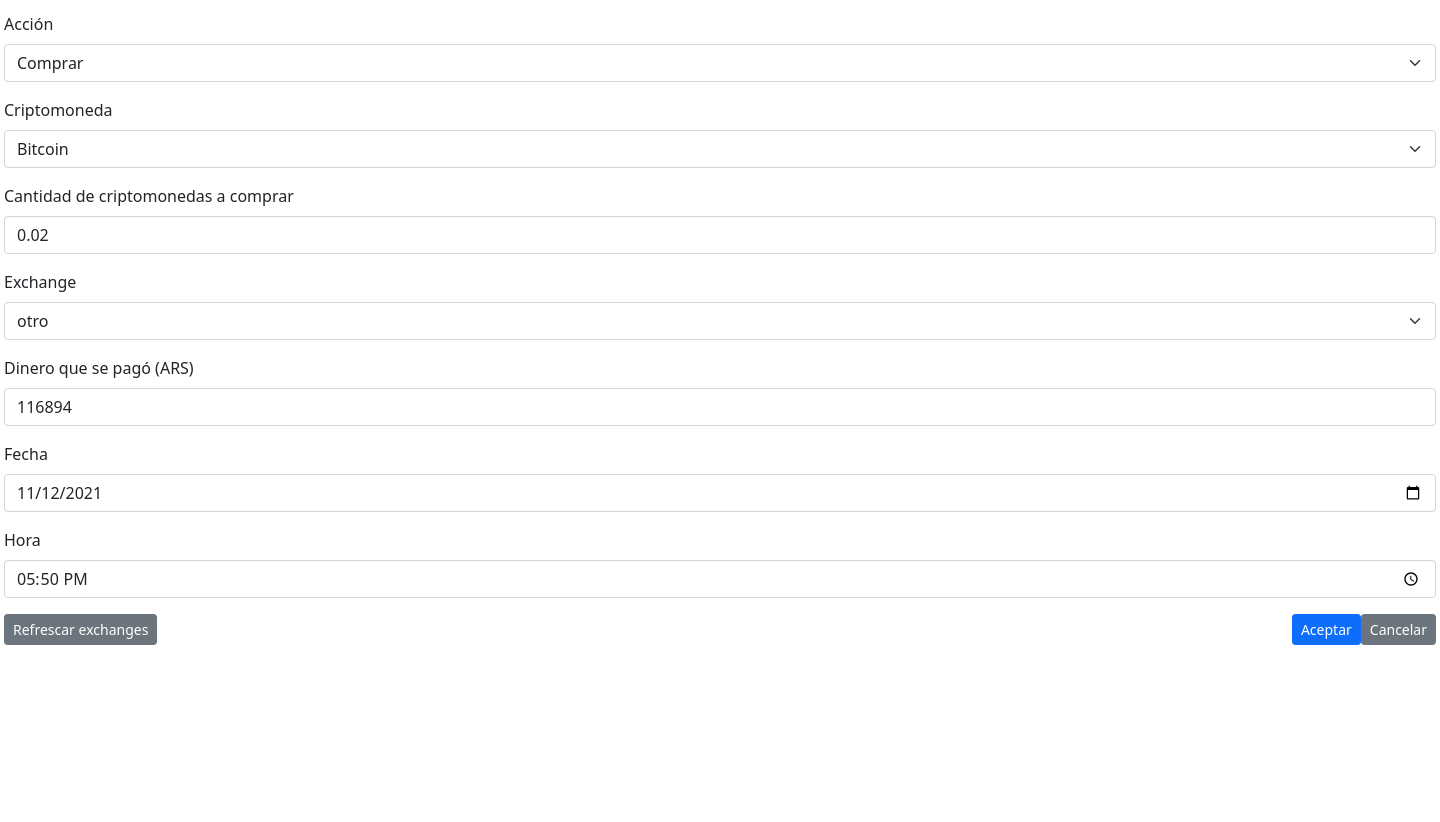
Test case: TransactionForm.vue › Editar compra: cambiar a venta - hay otras compras
Expected: the dropdown with id "crypto-code" shows "Bitcoin", [4,130,1436,168]
Expected: the label "Cantidad de criptomonedas a comprar" is shown, [4,184,294,208]
Select "Vender" in the dropdown with id "action" at {"x": 720, "y": 63}, box [4,44,1436,82]
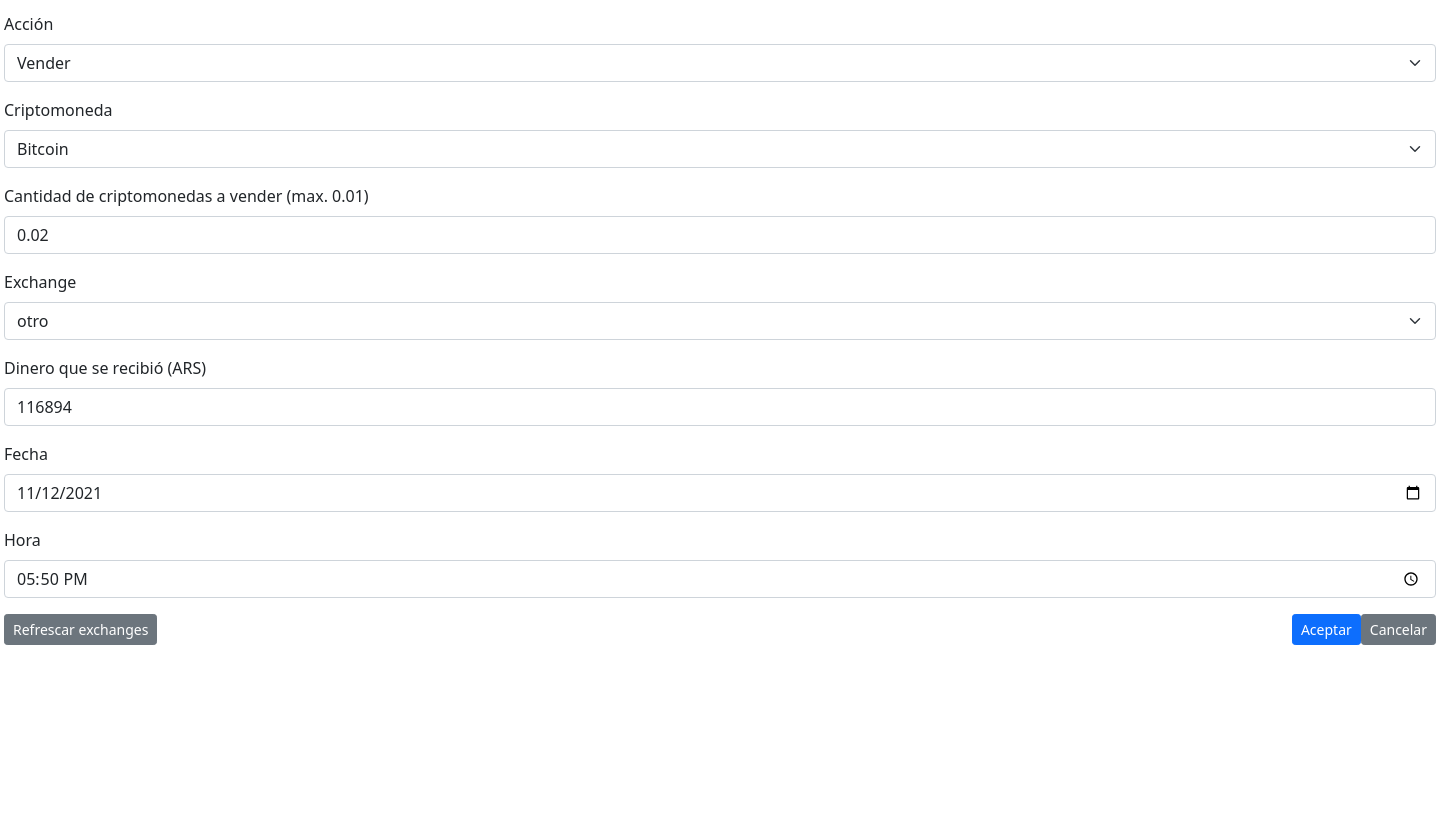
Expected: the label "Cantidad de criptomonedas a vender (max. 0.01)" is shown, [4,184,369,208]
